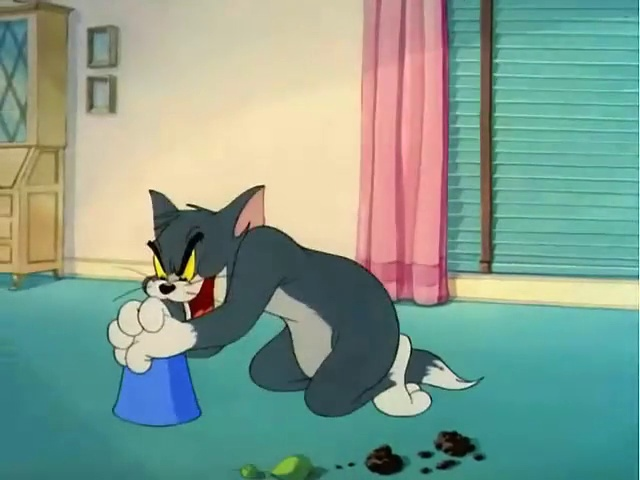tom: (93, 162, 518, 427), (95, 161, 505, 426)
